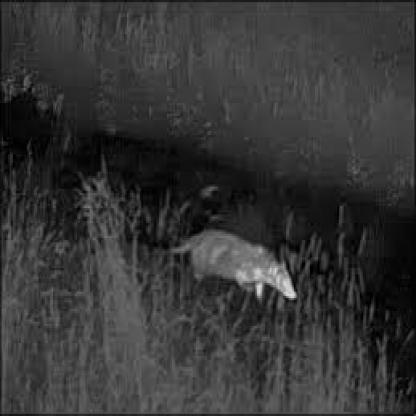rehkitze: (170, 226, 297, 306)
